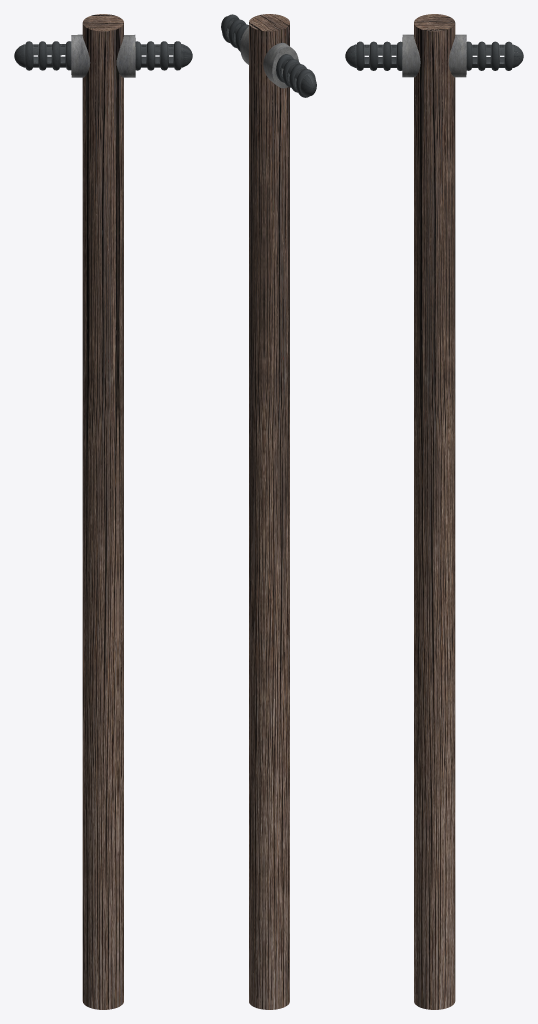
Rendered from powerline.fbx.
3 views of the same model, side by side, from view 1: azimuth 90°, elevation 25°; view 2: azimuth 210°, elevation 25°; view 3: azimuth 270°, elevation 25° (orthographic).
Visible parts, largest first — view 1: Cylinder.004; view 2: Cylinder.004; view 3: Cylinder.004.
Boxes of the visible parts, <box> form: Cylinder.004: <box>14,14,192,1009</box>; Cylinder.004: <box>221,14,316,1009</box>; Cylinder.004: <box>345,14,523,1009</box>.
Size of the model in its own units: 24.68 by 645 by 106.
